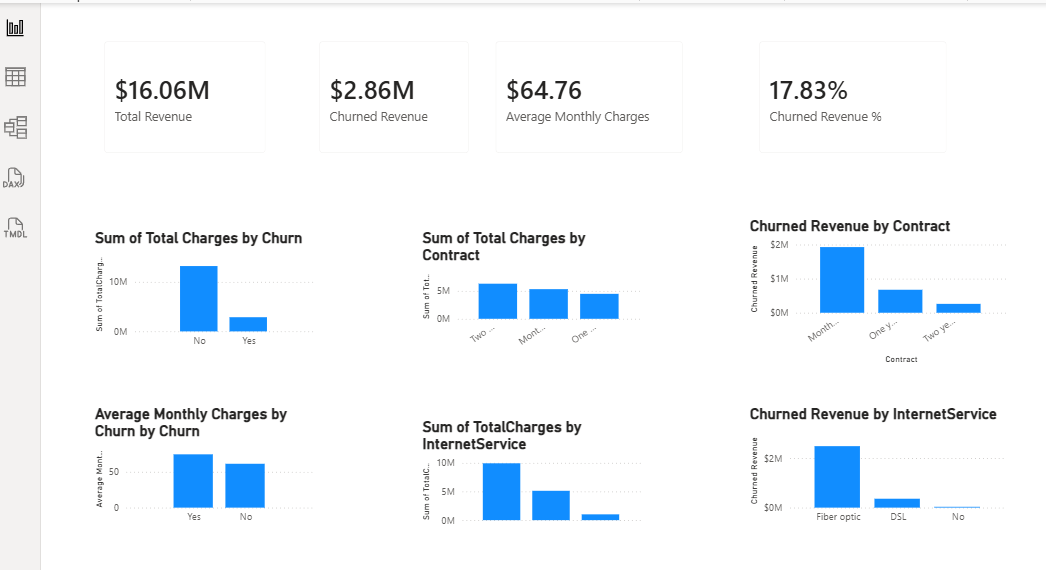

The dashboard page shown, as its layout file describes it:
{"tool":"powerbi","page":{"name":"Revenue Analysis","canvas":[1280,720],"ordinal":2},"visuals":[{"type":"cardVisual","fields":{"Data":["Churn_Data.Total Revenue"]},"box":[64,32,240,176],"z":0},{"type":"cardVisual","fields":{"Data":["Churn_Data.Churned Revenue"]},"box":[336,32,224,176],"z":1000},{"type":"cardVisual","fields":{"Data":["Churn_Data.Average Monthly Charges"]},"box":[560,32,272,176],"z":2000},{"type":"cardVisual","fields":{"Data":["Churn_Data.Churned Revenue %"]},"box":[896,32,272,176],"z":3000},{"type":"clusteredColumnChart","title":"Sum of Total Charges by Churn","fields":{"Category":["Churn_Data.Churn"],"Y":["Sum(Churn_Data.TotalCharges)"]},"box":[64,288,288,160],"z":4000},{"type":"clusteredColumnChart","title":"Sum of Total Charges by Contract","fields":{"Category":["Churn_Data.Contract"],"Y":["Sum(Churn_Data.TotalCharges)"]},"box":[480,288,288,160],"z":5000},{"type":"clusteredColumnChart","fields":{"Category":["Churn_Data.Contract"],"Y":["Churn_Data.Churned Revenue"]},"box":[896,272,336,192],"z":6000},{"type":"clusteredColumnChart","fields":{"Category":["Churn_Data.Churn"],"Y":["Churn_Data.Average Monthly Charges by Churn"]},"box":[64,512,288,160],"z":7000},{"type":"clusteredColumnChart","fields":{"Category":["Churn_Data.InternetService"],"Y":["Sum(Churn_Data.TotalCharges)"]},"box":[480,528,288,144],"z":8000},{"type":"clusteredColumnChart","fields":{"Category":["Churn_Data.InternetService"],"Y":["Churn_Data.Churned Revenue"]},"box":[896,512,336,160],"z":9000}]}

Visuals, with their boxes on the page's 1280x720 design canvas (x1, y1, x2, y2). These are canvas units, not pixel positions in the 1046x570 screenshot, which may show the page scaled, cropped or inside an application window:
cardVisual - Churn_Data.Total Revenue: box(64, 32, 304, 208)
cardVisual - Churn_Data.Churned Revenue: box(336, 32, 560, 208)
cardVisual - Churn_Data.Average Monthly Charges: box(560, 32, 832, 208)
cardVisual - Churn_Data.Churned Revenue %: box(896, 32, 1168, 208)
"Sum of Total Charges by Churn" clusteredColumnChart: box(64, 288, 352, 448)
"Sum of Total Charges by Contract" clusteredColumnChart: box(480, 288, 768, 448)
clusteredColumnChart - Churn_Data.Contract x Churn_Data.Churned Revenue: box(896, 272, 1232, 464)
clusteredColumnChart - Churn_Data.Churn x Churn_Data.Average Monthly Charges by Churn: box(64, 512, 352, 672)
clusteredColumnChart - Churn_Data.InternetService x Sum(Churn_Data.TotalCharges): box(480, 528, 768, 672)
clusteredColumnChart - Churn_Data.InternetService x Churn_Data.Churned Revenue: box(896, 512, 1232, 672)
